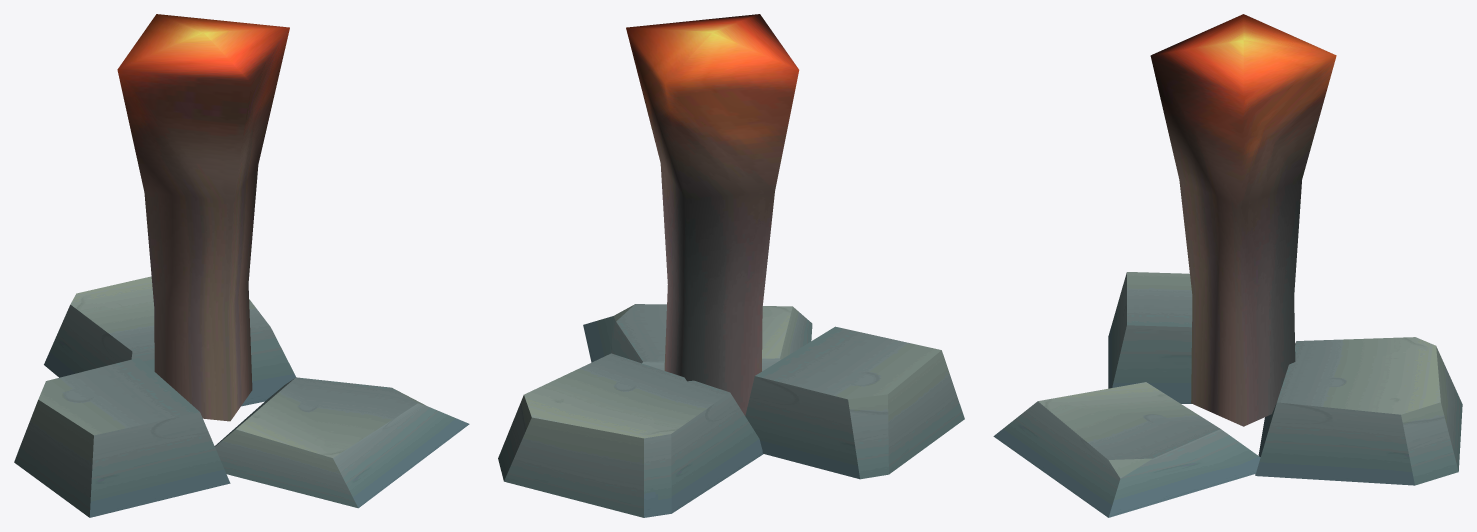
Rendered from FloorDeco2B-004_02_12_5371.fbx.
3 renders of one model, left to right at view 1: azimuth 30°, elevation 25°; view 2: azimuth 150°, elevation 25°; view 3: azimuth 270°, elevation 25°, orthographic. The views are drawn at different scales.
Parts seen in each view (by area): view 1: Torch; view 2: Torch; view 3: Torch.
Part boxes in pixels (<box>): Torch: <box>14,14,469,517</box>; Torch: <box>498,14,964,517</box>; Torch: <box>993,14,1462,517</box>.
Size of the model in its own units: 1.47 by 1.44 by 1.59.
